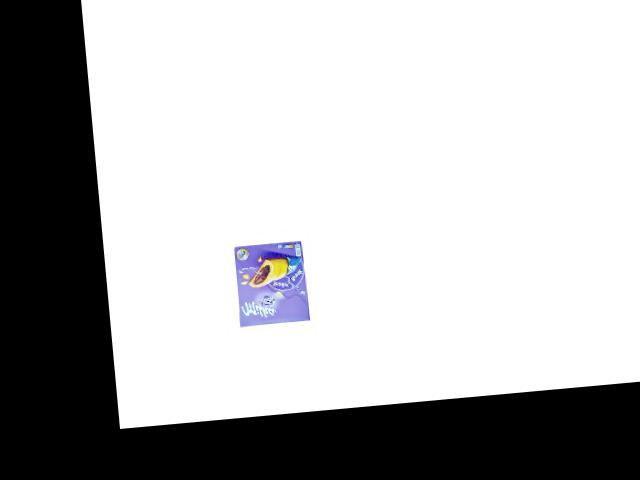chocolate: (228, 234, 313, 332)
